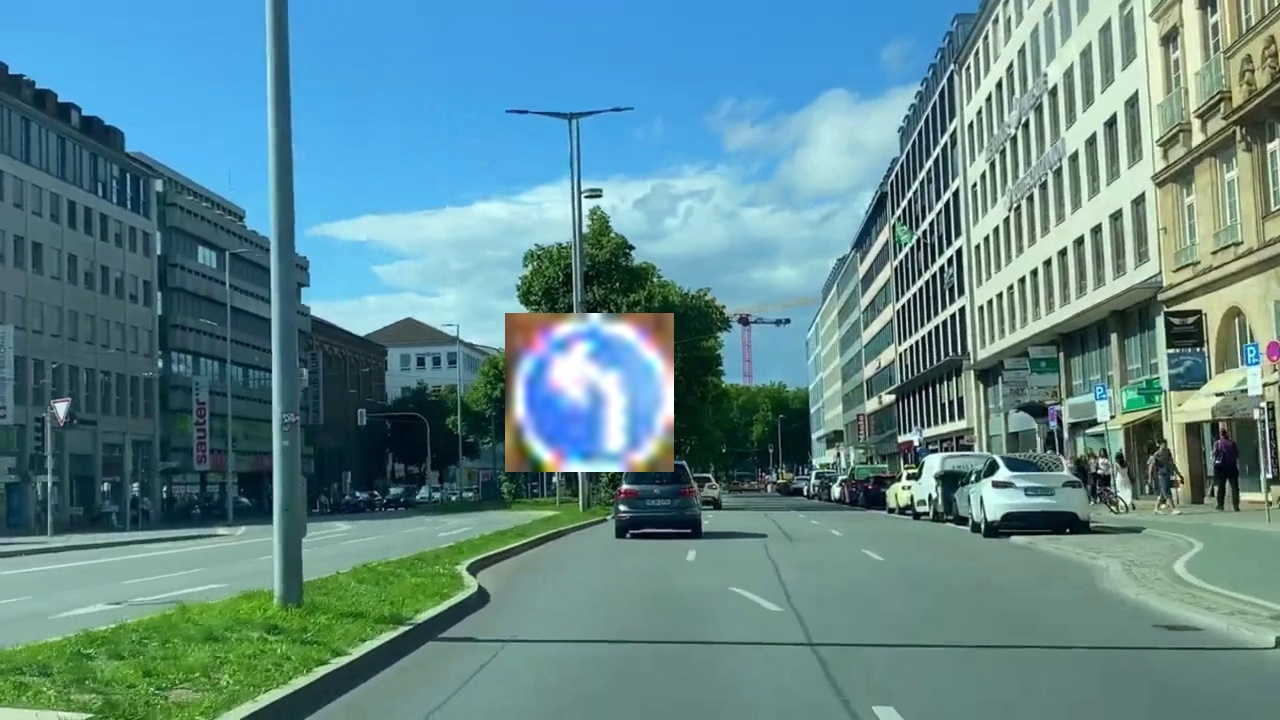Turn left: (505, 313, 674, 472)
